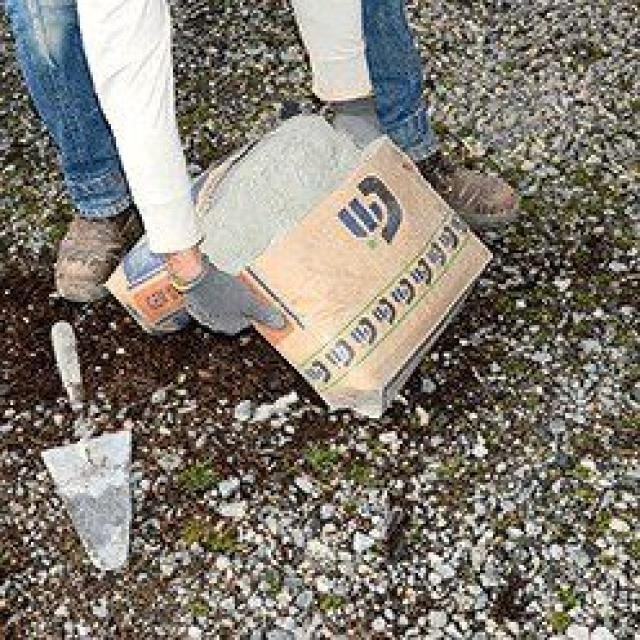KantongSemen: (104, 114, 522, 416)
